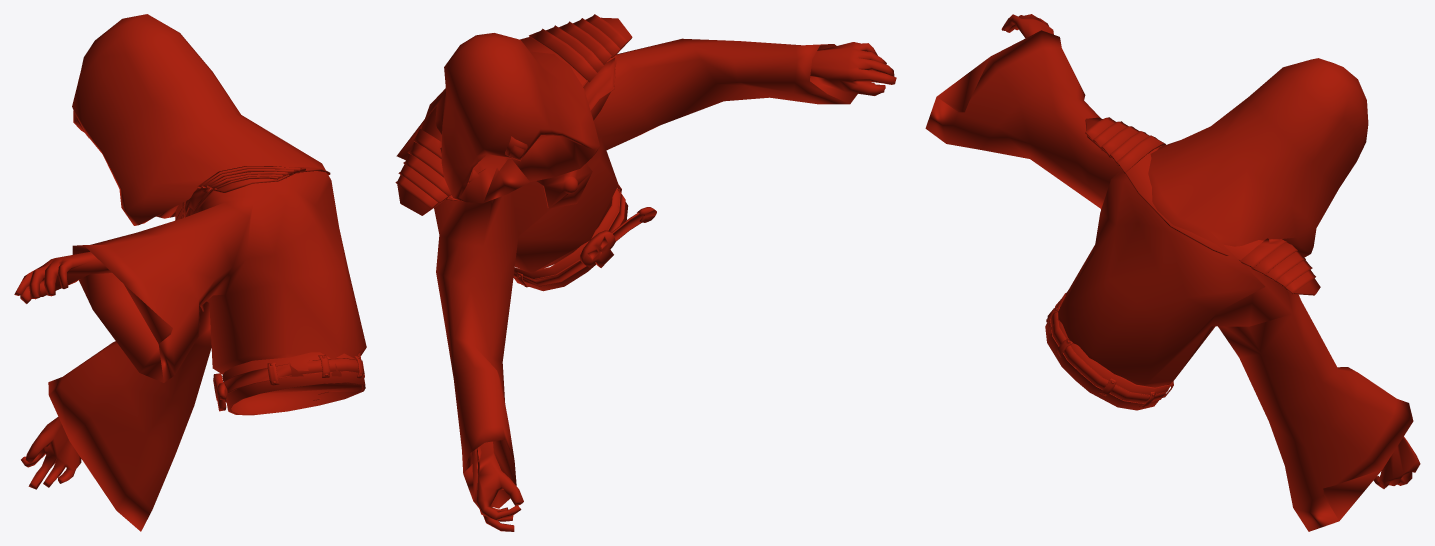
File: top_000056.obj
The picture shows the model from 3 angles, left to right: view 1: azimuth 30°, elevation 25°; view 2: azimuth 150°, elevation 25°; view 3: azimuth 270°, elevation 25°; orthographic projection. The views are drawn at different scales.
Parts seen in each view (by area): view 1: LowPoly_Warlock.000_Plane.005; view 2: LowPoly_Warlock.000_Plane.005; view 3: LowPoly_Warlock.000_Plane.005.
Part boxes in pixels (bbox=[...]): LowPoly_Warlock.000_Plane.005: bbox=[14, 14, 366, 531]; LowPoly_Warlock.000_Plane.005: bbox=[395, 14, 896, 531]; LowPoly_Warlock.000_Plane.005: bbox=[925, 14, 1420, 531].
Size of the model in its own units: 1.2 by 1.43 by 1.36.
